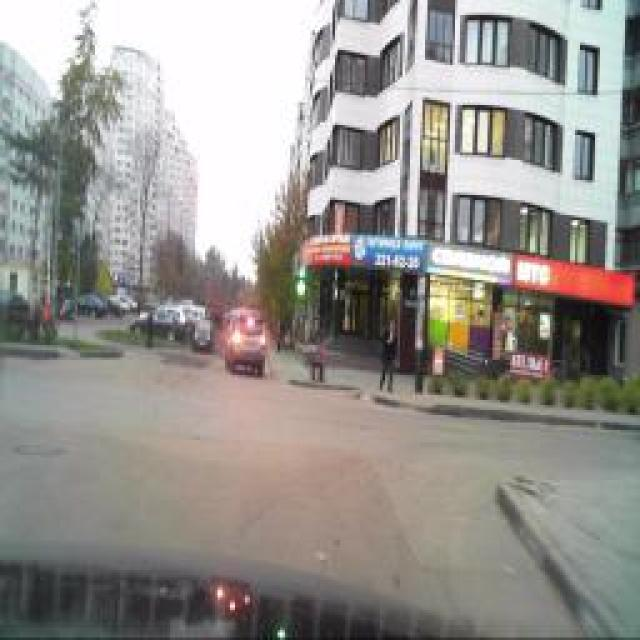sign: (117, 274, 125, 288)
